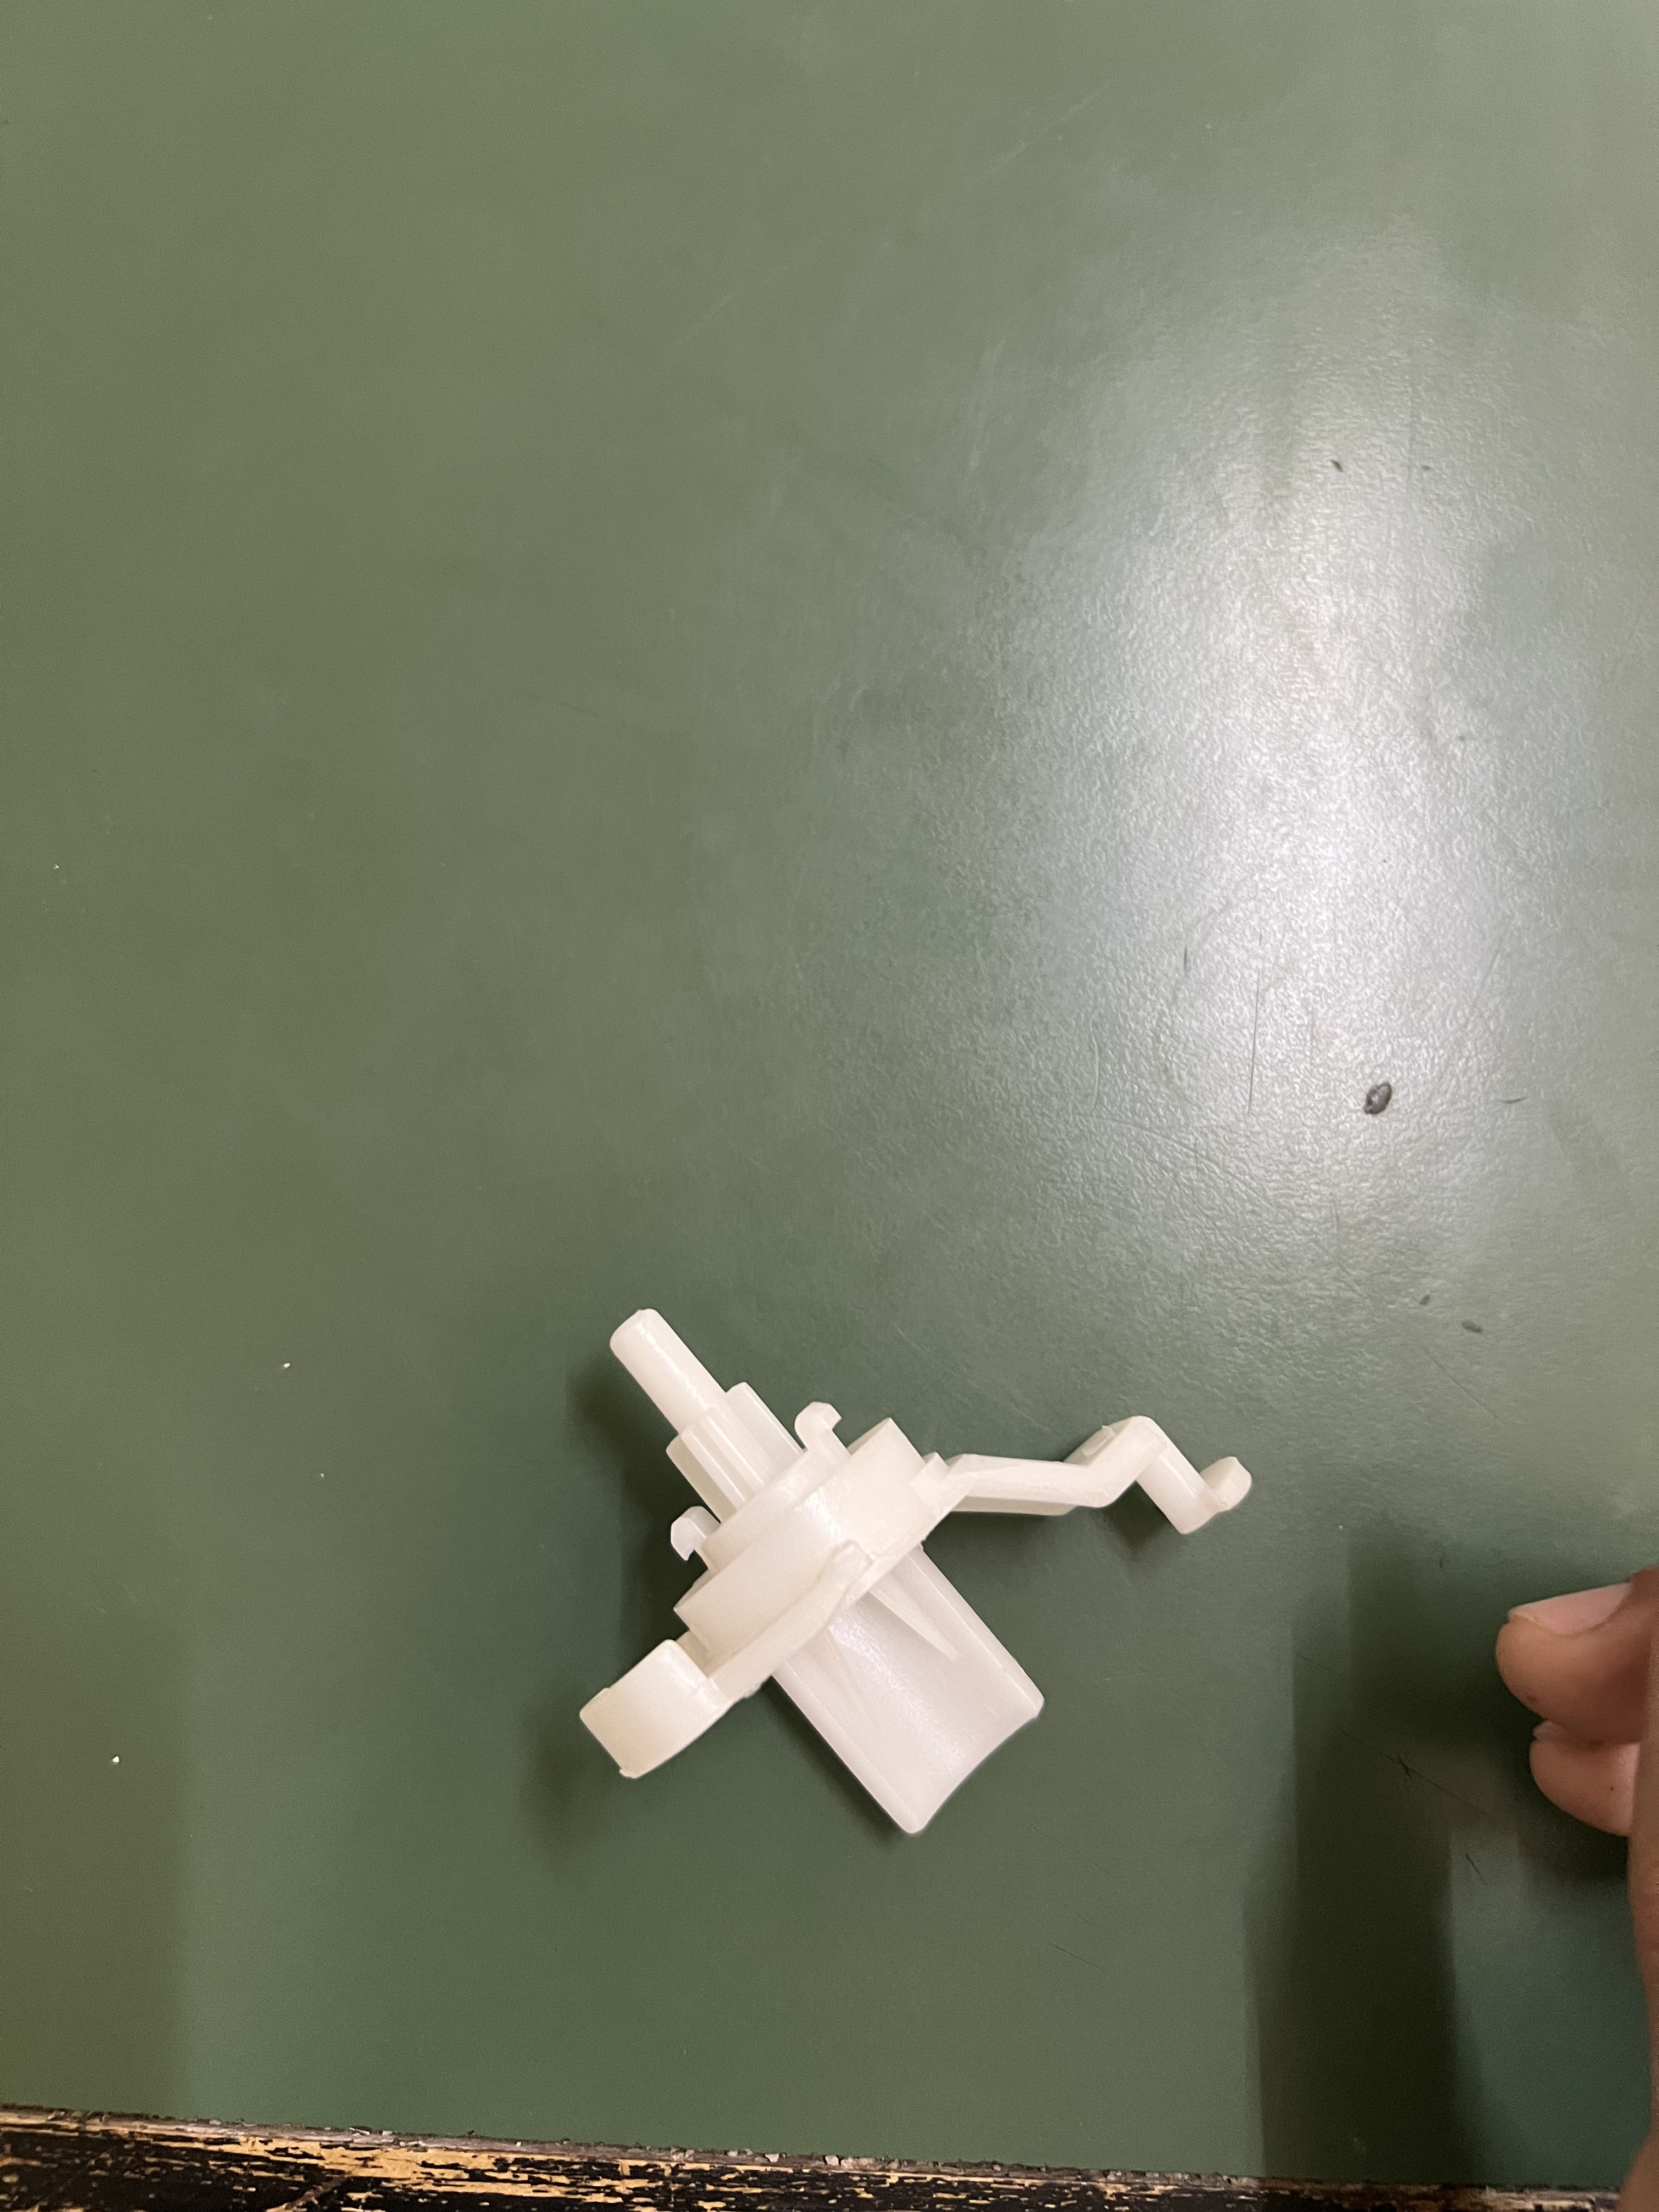drain_lever: (528, 1312, 1271, 1845)
